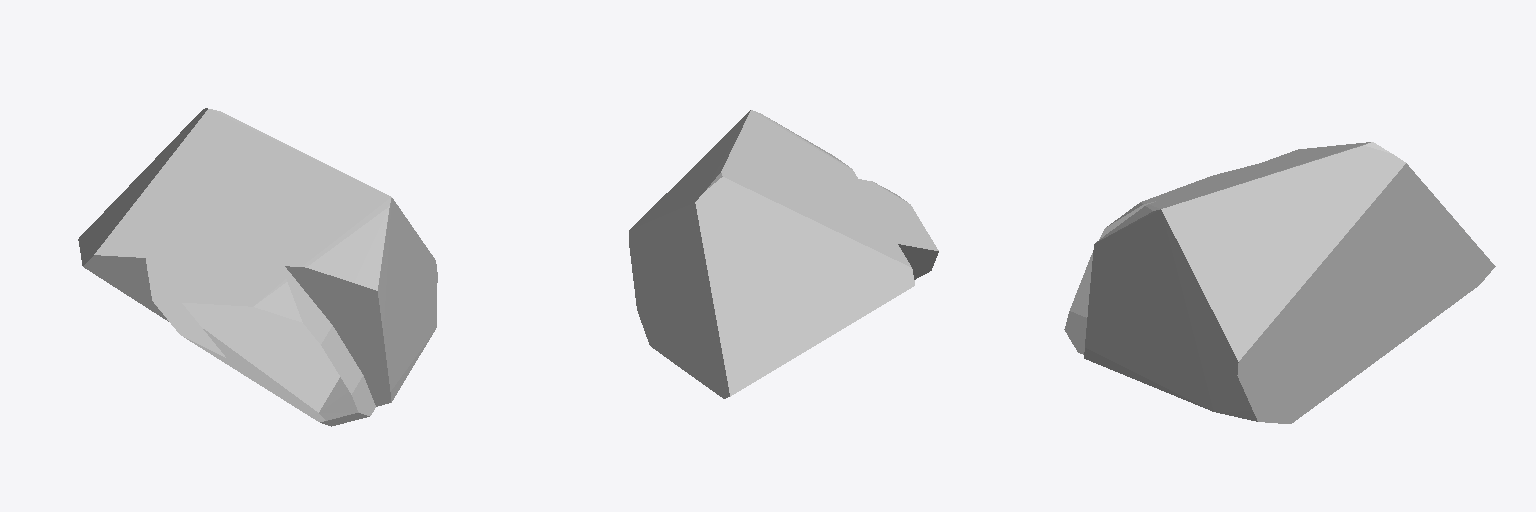
The model's file is li-fang-ti-.001_cell.148.obj.
3 renders of one model, left to right at view 1: azimuth 30°, elevation 25°; view 2: azimuth 150°, elevation 25°; view 3: azimuth 270°, elevation 25°, orthographic.
Visible parts, largest first — view 1: 立方体.001_cell.148; view 2: 立方体.001_cell.148; view 3: 立方体.001_cell.148.
Part boxes in pixels (bbox=[...]): 立方体.001_cell.148: bbox=[78, 108, 437, 426]; 立方体.001_cell.148: bbox=[629, 110, 938, 398]; 立方体.001_cell.148: bbox=[1064, 142, 1495, 423].
Size of the model in its own units: 0.4906 by 0.3323 by 0.5711.